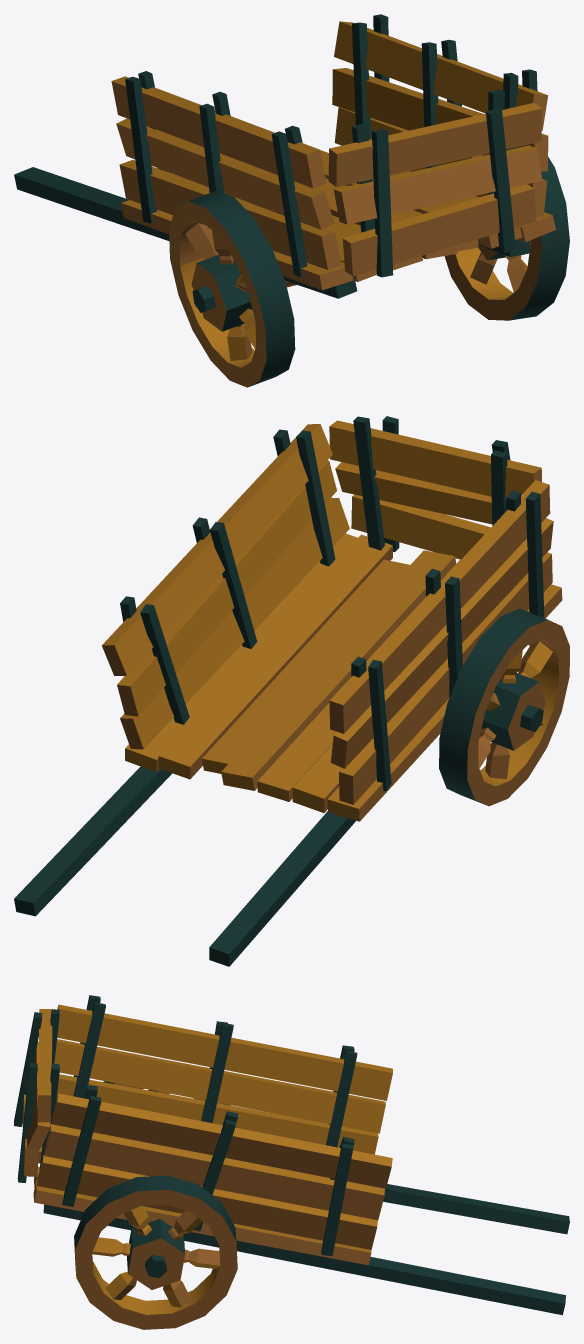
File: carroca.fbx
The picture shows the model from 3 angles, top to bottom: view 1: azimuth 30°, elevation 25°; view 2: azimuth 150°, elevation 25°; view 3: azimuth 270°, elevation 25°; orthographic projection. The views are drawn at different scales.
Visible parts, largest first — view 1: carroca; view 2: carroca; view 3: carroca.
Boxes of the visible parts, <box> form: carroca: <box>14,14,569,387</box>; carroca: <box>14,416,569,966</box>; carroca: <box>14,995,569,1329</box>.
Size of the model in its own units: 343 by 275 by 585.
